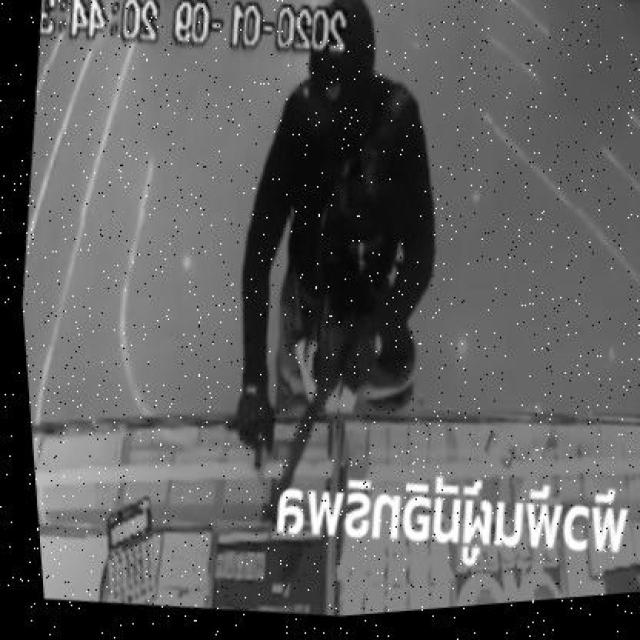weapon: (263, 274, 389, 523)
